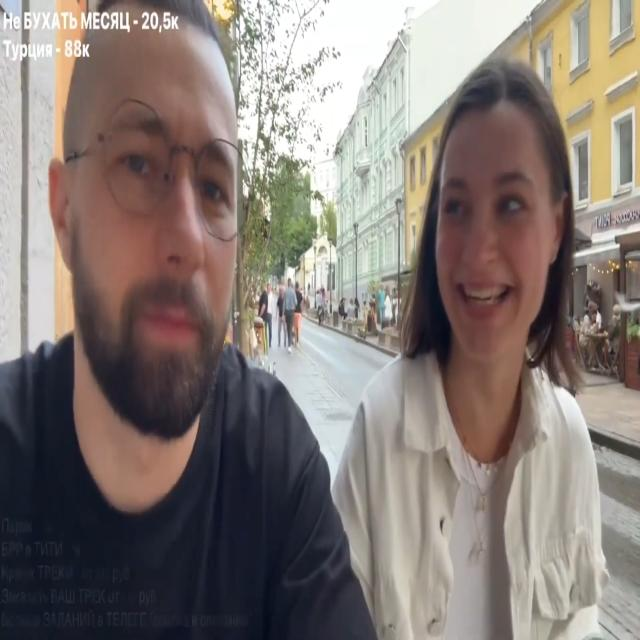Person: (0, 33, 367, 637), (318, 50, 628, 632), (282, 280, 301, 349)
